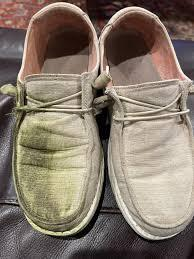earth: (20, 126, 55, 212)
